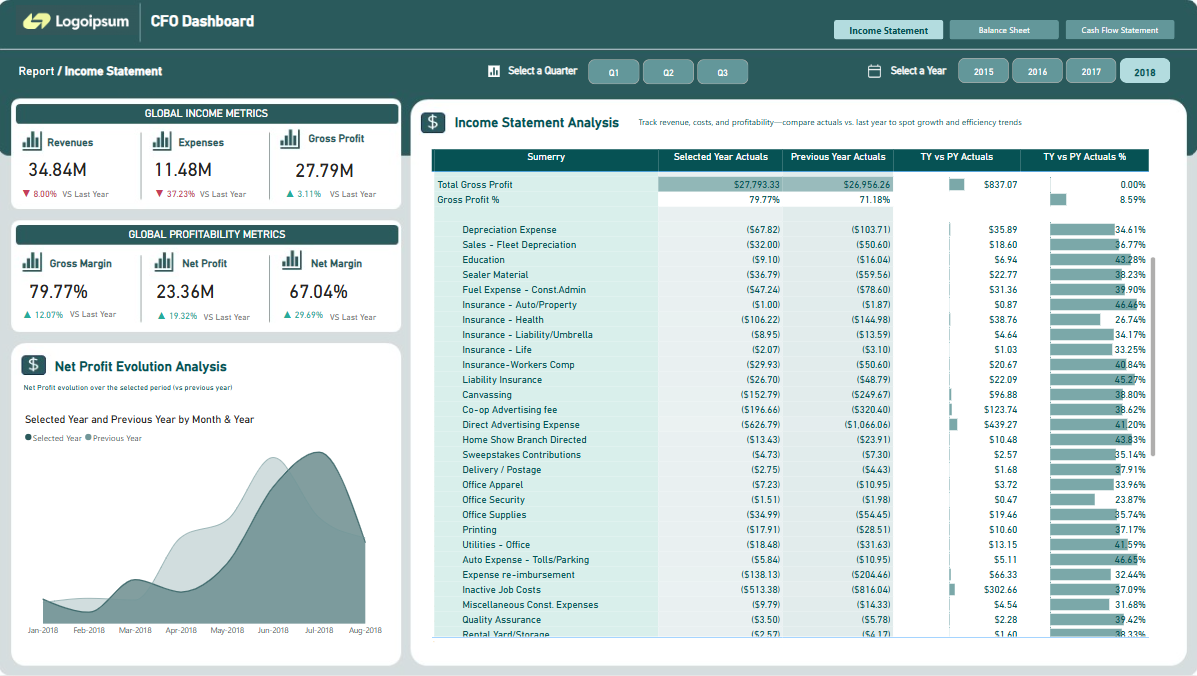

This screenshot's page, from the dashboard's own definition file:
{"tool":"powerbi","page":{"name":"Income Statement","canvas":[1920,1080],"ordinal":0},"visuals":[{"type":"advancedSlicerVisual","fields":{"Values":["Dates.Year"]},"box":[1530,88,352,50],"z":0,"group":"g7"},{"type":"advancedSlicerVisual","fields":{"Values":["Dates.Quarter"]},"box":[938.3,90,353.3,50],"z":0},{"type":"textbox","box":[184.4,133.8,133.8,40.3],"z":0},{"type":"card","fields":{"Values":["Measures  Table.Total Expenses"]},"box":[241.4,244.3,104.3,51.4],"z":0,"group":"g2"},{"type":"card","fields":{"Values":["Measures  Table.Revenues"]},"box":[31.9,244.8,123.3,51.7],"z":0,"group":"g1"},{"type":"card","fields":{"Values":["Measures  Table.Gross Profit"]},"box":[448.1,245.6,141.7,50],"z":0,"group":"g3"},{"type":"card","fields":{"Values":["Measures  Table.Net Profit"]},"box":[245.7,437.1,104.3,51.4],"z":0,"group":"g5"},{"type":"card","fields":{"Values":["Measures  Table.Gross Profit Margin"]},"box":[35.1,437.4,118.6,51.4],"z":0,"group":"g4"},{"type":"card","fields":{"Values":["Measures  Table.Net Profit Margin"]},"box":[451.2,437.5,118.6,51.4],"z":0,"group":"g6"},{"type":"textbox","box":[320.8,133.8,120.8,40.3],"z":1000},{"type":"textbox","box":[488.8,206.5,120,47.1],"z":1000,"group":"g3"},{"type":"textbox","box":[72.9,212.9,100,40],"z":1000,"group":"g1"},{"type":"textbox","box":[282.8,212.9,100,40],"z":1000,"group":"g2"},{"type":"textbox","box":[287.2,405.7,100,40],"z":1000,"group":"g5"},{"type":"textbox","box":[492.8,405.7,100,40],"z":1000,"group":"g6"},{"type":"textbox","box":[75.1,406.1,134.3,37.1],"z":1000,"group":"g4"},{"type":"group","id":"g1","title":"Group 1","box":[16.9,212.9,184.3,115.2],"z":2000},{"type":"card","fields":{"Values":["Measures  Table.Revenue Growth"]},"box":[16.9,296.5,96.7,31.7],"z":2000,"group":"g1"},{"type":"card","fields":{"Values":["Measures  Table.Total Expenses Growth"]},"box":[240.2,296.5,83.3,31.7],"z":2000,"group":"g2"},{"type":"card","fields":{"Values":["Measures  Table.Gross Profit Growth"]},"box":[443.1,298.9,85,28.3],"z":2000,"group":"g3"},{"type":"card","fields":{"Values":["Measures  Table.Gross Margin Growth"]},"box":[31.4,490,75.7,30],"z":2000,"group":"g4"},{"type":"card","fields":{"Values":["Measures  Table.Net Margin Growth"]},"box":[447.1,490,75.7,30],"z":2000,"group":"g6"},{"type":"card","fields":{"Values":["Measures  Table.Net Profit Growth"]},"box":[237.4,491.2,93.3,30],"z":2000,"group":"g5"},{"type":"group","id":"g2","title":"Group 1","box":[240.2,212.9,176.7,118.3],"z":3000},{"type":"textbox","box":[96.9,296,104.3,31.4],"z":3000,"group":"g1"},{"type":"textbox","box":[316.9,296.2,100,35],"z":3000,"group":"g2"},{"type":"textbox","box":[523.1,296.5,100,38.3],"z":3000,"group":"g3"},{"type":"textbox","box":[106.9,488.8,100,35.7],"z":3000,"group":"g4"},{"type":"textbox","box":[320.7,492.4,100,35],"z":3000,"group":"g5"},{"type":"textbox","box":[522.1,492.4,100,35],"z":3000,"group":"g6"},{"type":"group","id":"g3","title":"Group 1","box":[443.1,206.5,180,128.3],"z":4000},{"type":"group","id":"g4","title":"Group 1","box":[31.4,406.1,178,118.4],"z":5000},{"type":"group","id":"g5","title":"Group 1","box":[237.4,405.7,183.3,121.7],"z":6000},{"type":"group","id":"g6","title":"Group 1","box":[447.1,405.7,175,121.7],"z":7000},{"type":"textbox","box":[84,568,448,40],"z":8000},{"type":"textbox","box":[34,604,540,40],"z":9000},{"type":"areaChart","fields":{"Category":["Dates.Month & Year"],"Y":["Measures  Table.Net Profit"],"Y2":["Measures  Table.Net Profit LY"]},"box":[35,660,586.7,366.7],"z":10000},{"type":"textbox","box":[724,178,302,40],"z":11000},{"type":"textbox","box":[1017.7,179.6,751.9,39.4],"z":12000},{"type":"tableEx","fields":{"Values":["Income Statement Template.Row Index","Income Statement Template.Income Statement Items","Measures  Table.Selected Year Actuals","Measures  Table.Previous Year Actuals","Measures  Table.TY vs PY Actuals","Measures  Table.TY vs PY Actuals %"]},"box":[686.7,233.3,1170,815],"z":13000},{"type":"textbox","box":[228.3,166.7,216.7,31.7],"z":14000},{"type":"textbox","box":[201.7,360,276.7,45],"z":15000},{"type":"textbox","box":[25.7,97.1,450,32.9],"z":16000},{"type":"image","box":[22.9,0,205.7,64.3],"z":17000},{"type":"textbox","box":[237.1,14.3,322.9,50],"z":18000},{"type":"group","id":"g7","title":"Group 2","box":[774.3,88,1107.7,50],"z":19000},{"type":"pageNavigator","box":[1336.2,32.5,547.5,31.2],"z":20000},{"type":"image","box":[1381,95,41.7,35],"z":20000,"group":"g7"},{"type":"textbox","box":[1422.6,98.3,123.3,33.3],"z":21000,"group":"g7"},{"type":"image","box":[774.3,100,36.7,28.3],"z":23000,"group":"g7"},{"type":"textbox","box":[811,98.3,140,31.7],"z":24000,"group":"g7"}]}

Visuals, with their boxes in screenshot pixels (x1, y1, x2, y2), scaled from the page's 1920x1080 canvas onto the 1197x676 screenshot:
advancedSlicerVisual - Dates.Year: pyautogui.locateOnScreen(954, 55, 1173, 86)
advancedSlicerVisual - Dates.Quarter: pyautogui.locateOnScreen(585, 56, 805, 88)
textbox: pyautogui.locateOnScreen(115, 84, 198, 109)
card - Measures  Table.Total Expenses: pyautogui.locateOnScreen(150, 153, 216, 185)
card - Measures  Table.Revenues: pyautogui.locateOnScreen(20, 153, 97, 186)
card - Measures  Table.Gross Profit: pyautogui.locateOnScreen(279, 154, 368, 185)
card - Measures  Table.Net Profit: pyautogui.locateOnScreen(153, 274, 218, 306)
card - Measures  Table.Gross Profit Margin: pyautogui.locateOnScreen(22, 274, 96, 306)
card - Measures  Table.Net Profit Margin: pyautogui.locateOnScreen(281, 274, 355, 306)
textbox: pyautogui.locateOnScreen(200, 84, 275, 109)
textbox: pyautogui.locateOnScreen(305, 129, 380, 159)
textbox: pyautogui.locateOnScreen(45, 133, 108, 158)
textbox: pyautogui.locateOnScreen(176, 133, 239, 158)
textbox: pyautogui.locateOnScreen(179, 254, 241, 279)
textbox: pyautogui.locateOnScreen(307, 254, 370, 279)
textbox: pyautogui.locateOnScreen(47, 254, 131, 277)
"Group 1" group: pyautogui.locateOnScreen(11, 133, 125, 205)
card - Measures  Table.Revenue Growth: pyautogui.locateOnScreen(11, 186, 71, 205)
card - Measures  Table.Total Expenses Growth: pyautogui.locateOnScreen(150, 186, 202, 205)
card - Measures  Table.Gross Profit Growth: pyautogui.locateOnScreen(276, 187, 329, 205)
card - Measures  Table.Gross Margin Growth: pyautogui.locateOnScreen(20, 307, 67, 325)
card - Measures  Table.Net Margin Growth: pyautogui.locateOnScreen(279, 307, 326, 325)
card - Measures  Table.Net Profit Growth: pyautogui.locateOnScreen(148, 307, 206, 326)
"Group 1" group: pyautogui.locateOnScreen(150, 133, 260, 207)
textbox: pyautogui.locateOnScreen(60, 185, 125, 205)
textbox: pyautogui.locateOnScreen(198, 185, 260, 207)
textbox: pyautogui.locateOnScreen(326, 186, 388, 210)
textbox: pyautogui.locateOnScreen(67, 306, 129, 328)
textbox: pyautogui.locateOnScreen(200, 308, 262, 330)
textbox: pyautogui.locateOnScreen(325, 308, 388, 330)
"Group 1" group: pyautogui.locateOnScreen(276, 129, 388, 210)
"Group 1" group: pyautogui.locateOnScreen(20, 254, 131, 328)
"Group 1" group: pyautogui.locateOnScreen(148, 254, 262, 330)
"Group 1" group: pyautogui.locateOnScreen(279, 254, 388, 330)
textbox: pyautogui.locateOnScreen(52, 356, 332, 381)
textbox: pyautogui.locateOnScreen(21, 378, 358, 403)
areaChart - Dates.Month & Year x Measures  Table.Net Profit: pyautogui.locateOnScreen(22, 413, 388, 643)
textbox: pyautogui.locateOnScreen(451, 111, 640, 136)
textbox: pyautogui.locateOnScreen(634, 112, 1103, 137)
tableEx - Income Statement Template.Row Index x Income Statement Template.Income Statement Items: pyautogui.locateOnScreen(428, 146, 1158, 656)
textbox: pyautogui.locateOnScreen(142, 104, 277, 124)
textbox: pyautogui.locateOnScreen(126, 225, 298, 253)
textbox: pyautogui.locateOnScreen(16, 61, 297, 81)
image: pyautogui.locateOnScreen(14, 0, 143, 40)
textbox: pyautogui.locateOnScreen(148, 9, 349, 40)
"Group 2" group: pyautogui.locateOnScreen(483, 55, 1173, 86)
pageNavigator: pyautogui.locateOnScreen(833, 20, 1174, 40)
image: pyautogui.locateOnScreen(861, 59, 887, 81)
textbox: pyautogui.locateOnScreen(887, 62, 964, 82)
image: pyautogui.locateOnScreen(483, 63, 506, 80)
textbox: pyautogui.locateOnScreen(506, 62, 593, 81)
